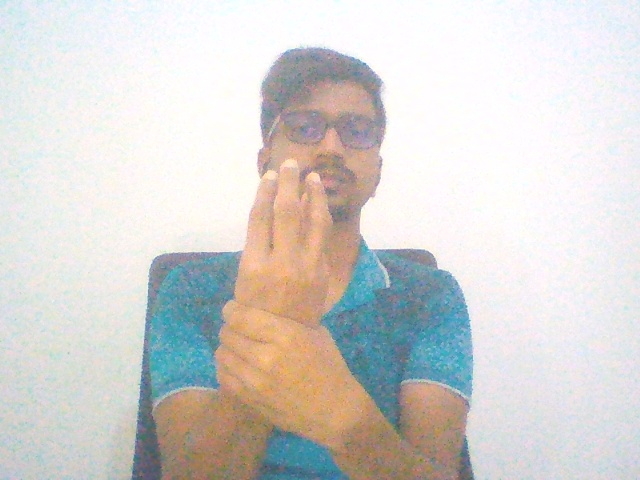tree: (199, 149, 388, 459)
